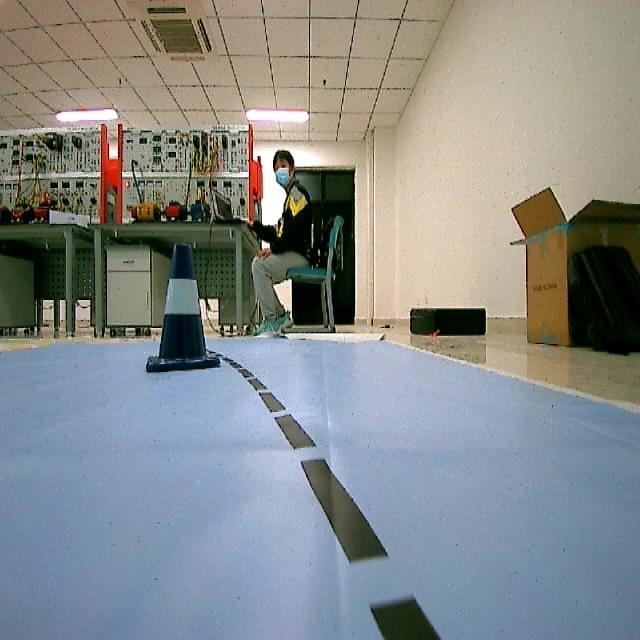obstacle: (142, 235, 216, 378)
